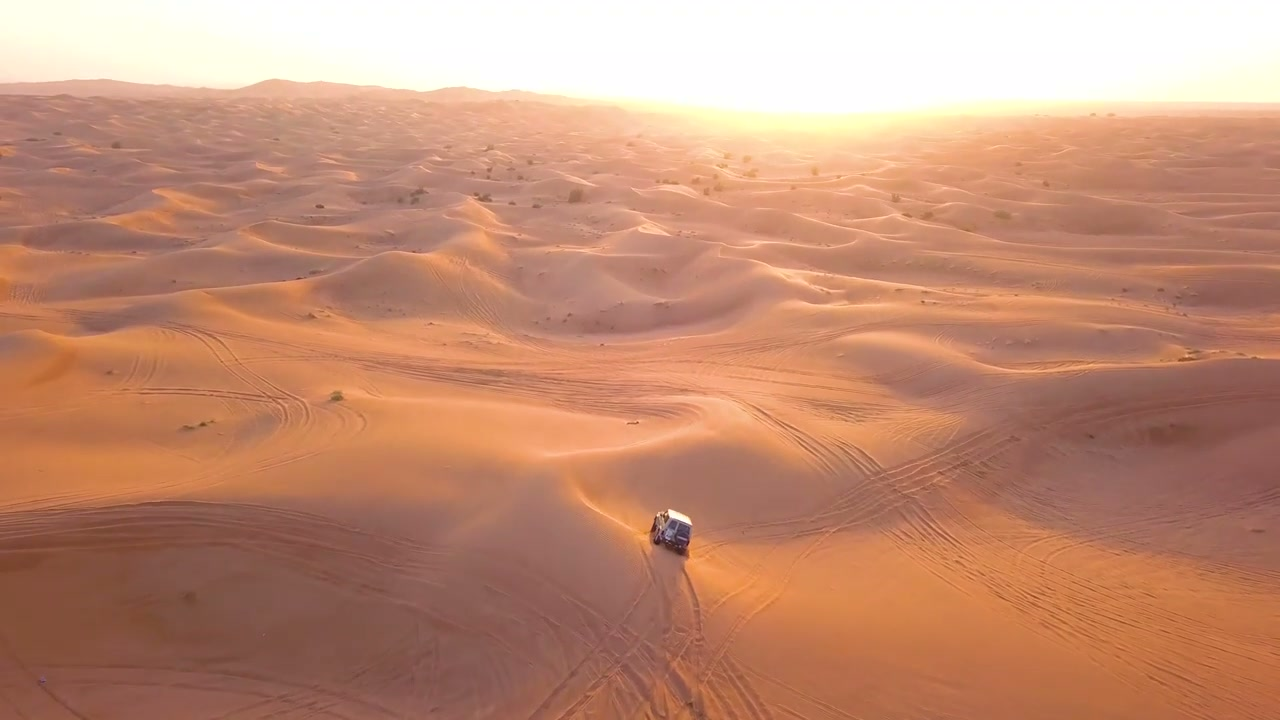vehicle_track: (702, 391, 1279, 551), (889, 494, 1279, 719), (891, 493, 1279, 717), (0, 501, 530, 662), (701, 430, 1019, 552), (165, 324, 366, 480), (627, 560, 772, 719), (557, 549, 677, 719), (529, 560, 655, 719), (47, 664, 402, 719), (737, 399, 881, 477), (0, 629, 88, 719), (741, 666, 863, 719), (117, 342, 164, 390), (6, 283, 39, 305)
